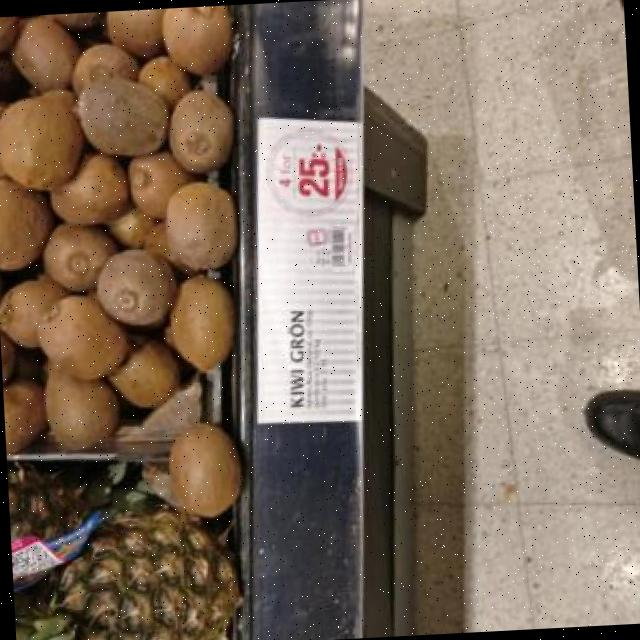kiwi: (0, 91, 84, 189), (37, 295, 130, 374), (77, 76, 169, 154), (164, 276, 235, 371), (170, 424, 240, 516), (166, 181, 238, 268), (47, 362, 119, 447), (97, 248, 177, 324), (169, 89, 234, 170), (52, 156, 127, 223), (0, 177, 53, 269), (12, 17, 79, 89), (44, 223, 116, 288), (0, 278, 67, 346), (128, 150, 196, 217), (109, 341, 179, 405), (165, 4, 229, 73), (3, 380, 46, 452), (75, 44, 139, 91), (142, 55, 193, 108), (108, 8, 163, 57), (143, 224, 193, 272), (108, 207, 156, 247), (44, 12, 100, 28), (2, 332, 16, 382), (0, 15, 17, 50), (0, 103, 6, 176)
